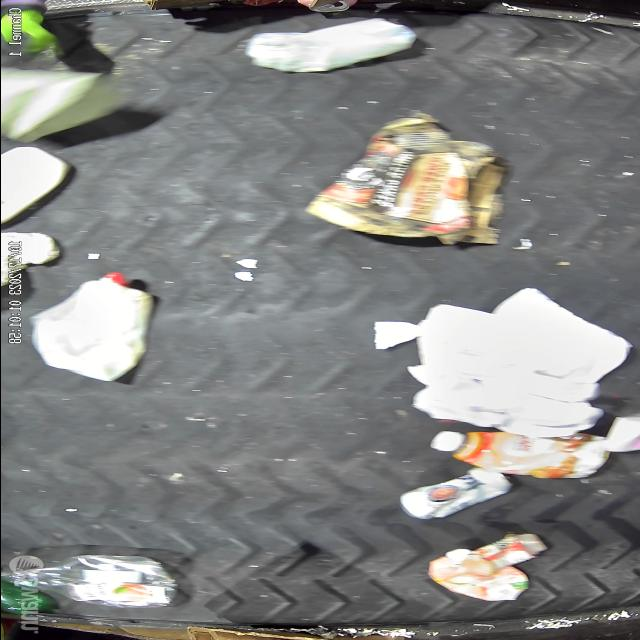milk_jug: (29, 273, 152, 381), (246, 18, 414, 74)
non_white_jug: (428, 550, 528, 602)
plastic_bottle: (6, 554, 178, 610)
